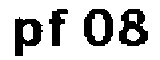0: (80, 6, 115, 49)
8: (119, 8, 150, 52)
f: (46, 7, 70, 49)
p: (9, 13, 45, 60)
